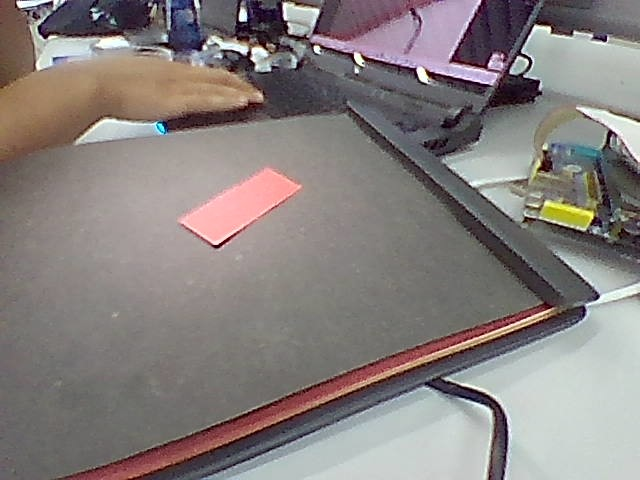card: (181, 168, 301, 247)
